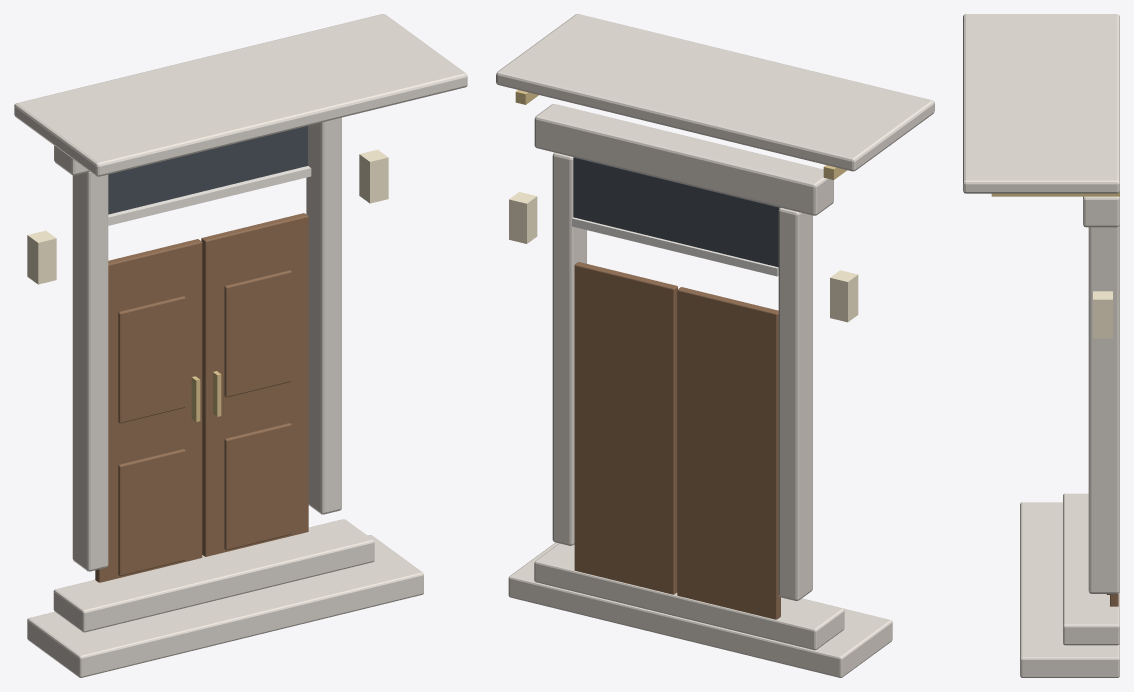
File: door.glb
3 renders of one model, left to right at view 1: azimuth 30°, elevation 25°; view 2: azimuth 150°, elevation 25°; view 3: azimuth 270°, elevation 25°, orthographic. The views are drawn at different scales.
Visible parts, largest first — view 1: jamb_l; view 2: jamb_l; view 3: jamb_l.
Part boxes in pixels (x1=…): jamb_l: x1=14, y1=14, x2=467, y2=677; jamb_l: x1=496, y1=14, x2=934, y2=677; jamb_l: x1=963, y1=14, x2=1119, y2=677.
Bounding box in the file's own units: 2.8 × 3.89 × 1.1.
